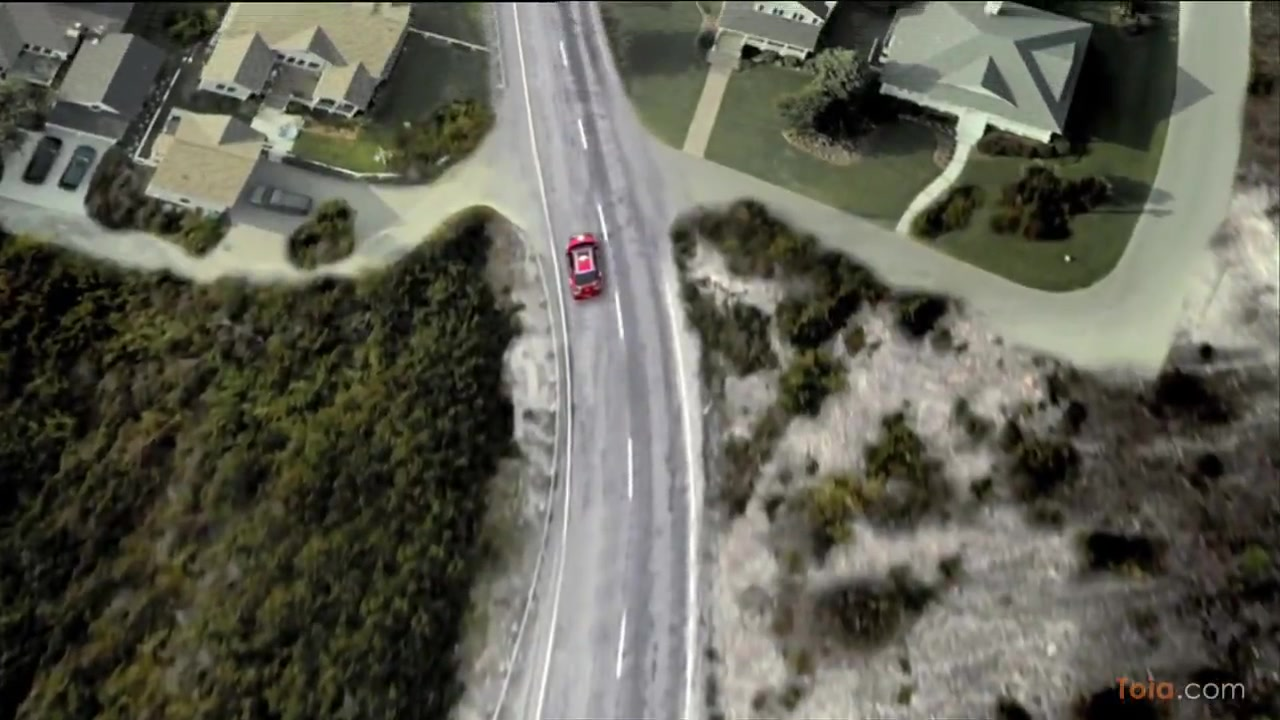car: (563, 228, 610, 305)
